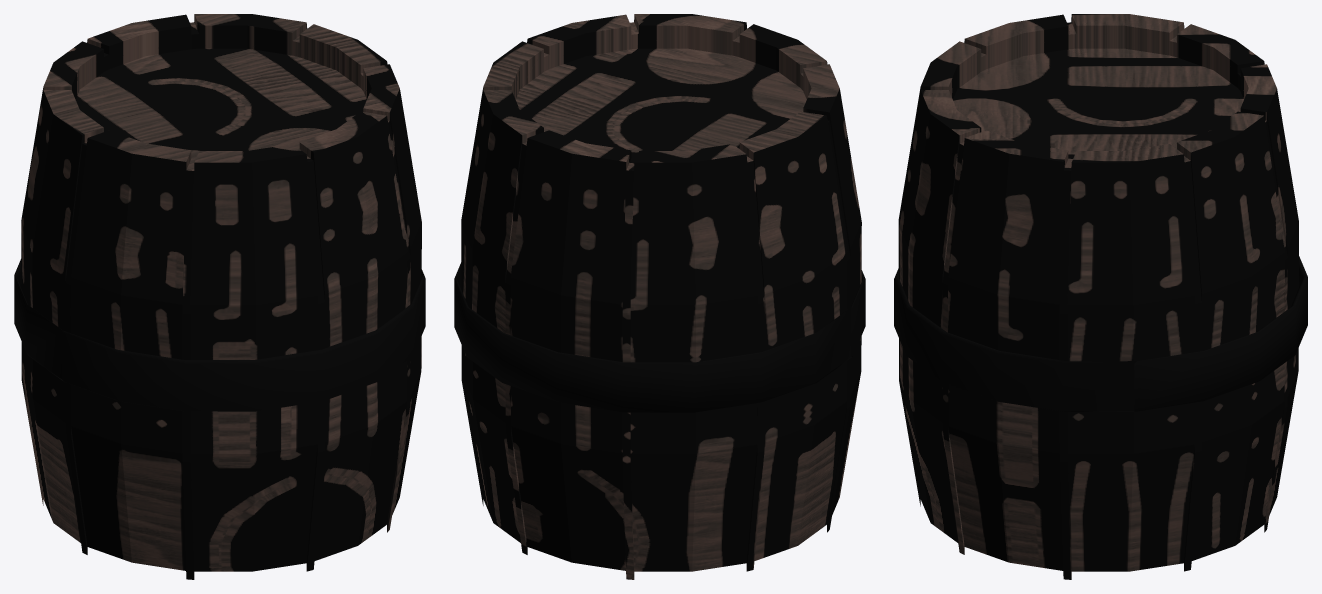
Rendered from Barrel.fbx.
The picture shows the model from 3 angles, left to right: view 1: azimuth 30°, elevation 25°; view 2: azimuth 150°, elevation 25°; view 3: azimuth 270°, elevation 25°; orthographic projection.
Parts seen in each view (by area): view 1: Cylinder; view 2: Cylinder; view 3: Cylinder.
Part boxes in pixels (bbox=[...]): Cylinder: bbox=[14, 14, 425, 579]; Cylinder: bbox=[454, 14, 865, 579]; Cylinder: bbox=[894, 14, 1307, 579].
Size of the model in its own units: 2298 by 2629 by 2362.
Materials: 1 (1 with a texture image).
